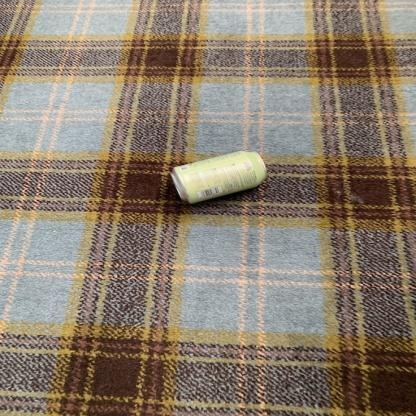trash: (170, 150, 270, 206)
